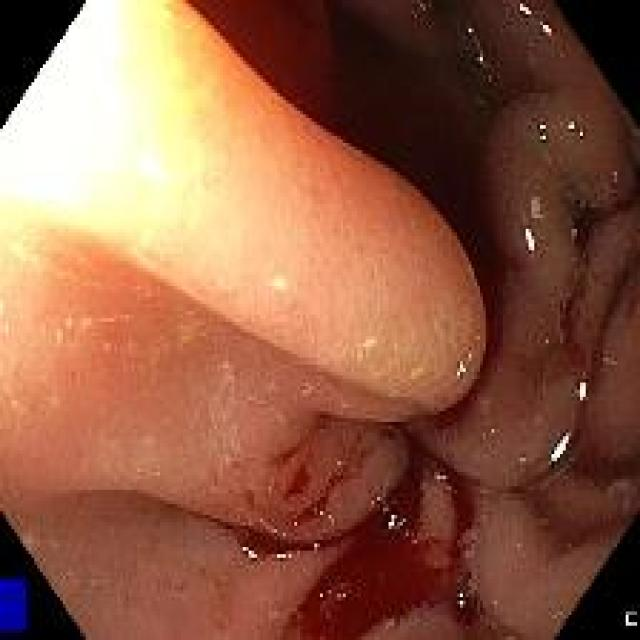blood: (289, 450, 465, 633), (427, 198, 512, 450), (515, 424, 633, 546), (547, 191, 598, 366), (227, 513, 292, 561)
bubbles: (317, 585, 352, 609), (453, 588, 471, 618), (402, 529, 425, 550), (384, 512, 404, 533), (412, 1, 430, 23), (381, 613, 400, 633), (550, 605, 566, 625), (601, 352, 617, 369), (473, 93, 487, 111), (88, 575, 102, 591), (608, 169, 619, 186), (374, 594, 386, 609), (487, 423, 497, 439), (518, 454, 526, 468)
color misalignment: (0, 576, 28, 632)
contrast: (320, 7, 542, 186), (440, 188, 518, 367)
specularity: (452, 344, 473, 385), (548, 431, 569, 463), (522, 224, 538, 253), (567, 116, 588, 138), (538, 16, 554, 40), (456, 588, 468, 613), (536, 120, 548, 144), (271, 549, 294, 561), (575, 379, 588, 400), (240, 546, 259, 560), (465, 18, 477, 39), (487, 422, 500, 440), (517, 2, 531, 18), (388, 512, 402, 528), (517, 452, 527, 468), (476, 49, 485, 66), (485, 71, 493, 87)
